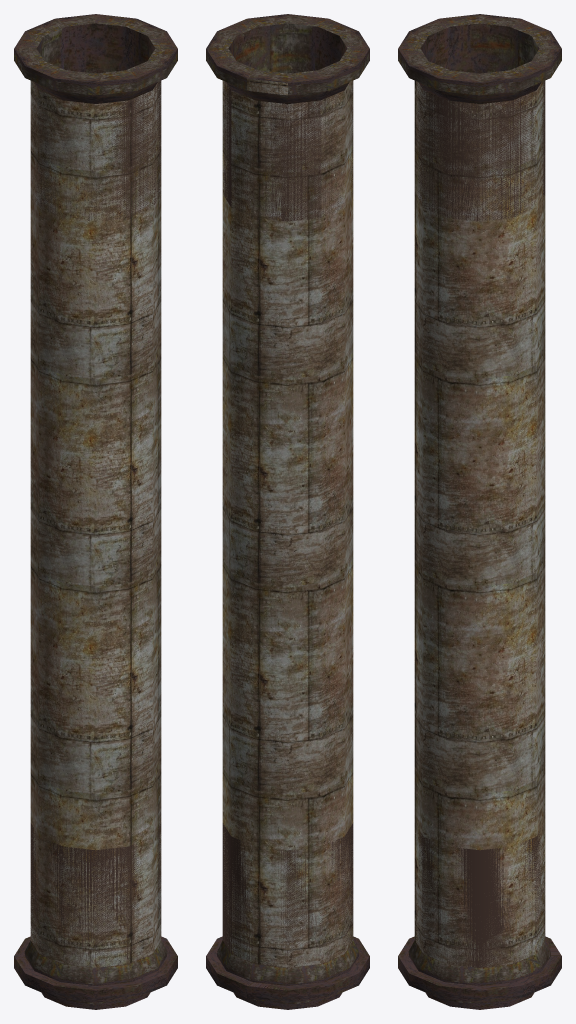
File: railpipe02.glb
3 renders of one model, left to right at view 1: azimuth 30°, elevation 25°; view 2: azimuth 150°, elevation 25°; view 3: azimuth 270°, elevation 25°, orthographic.
Bounding box in the file's own units: 82.76 × 522 × 82.76.
Materials: 3 (3 with a texture image).
